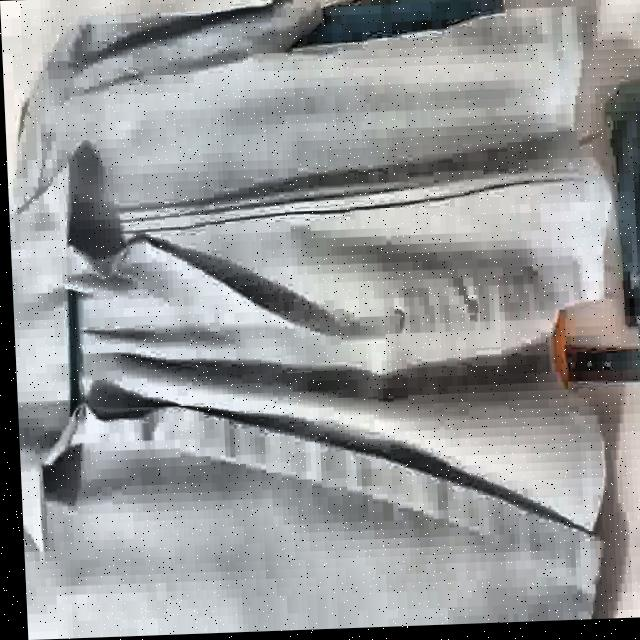clothes: (0, 0, 627, 630)
